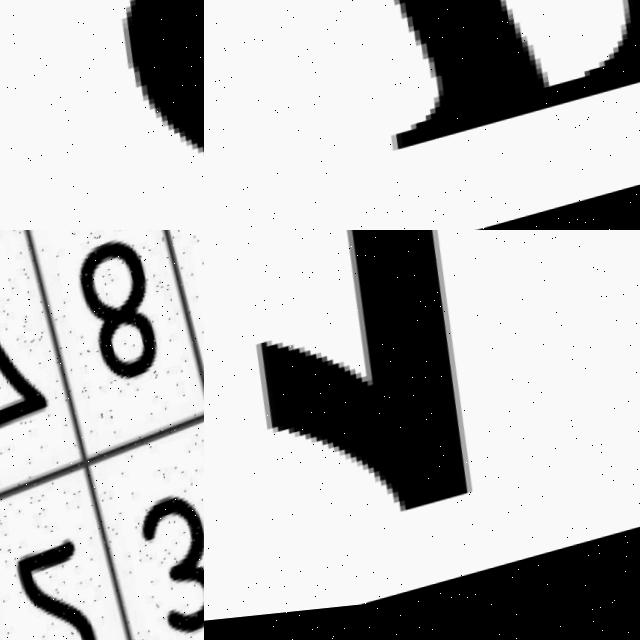1: (204, 230, 494, 567)
2: (4, 537, 116, 640)
3: (130, 489, 204, 640)
7: (0, 275, 57, 452)
8: (64, 234, 174, 403)
R: (204, 0, 640, 216)
S: (0, 0, 204, 230)
